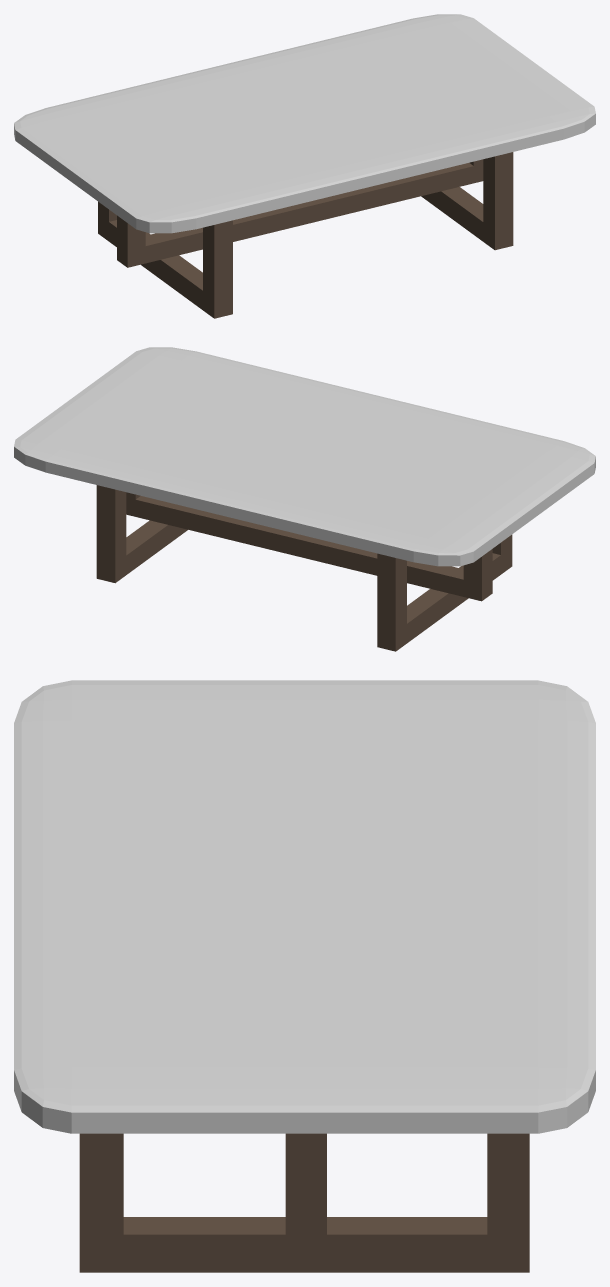
The model's file is cafe-table .fbx.
3 renders of one model, top to bottom at view 1: azimuth 30°, elevation 25°; view 2: azimuth 150°, elevation 25°; view 3: azimuth 270°, elevation 25°, orthographic. The views are drawn at different scales.
Parts seen in each view (by area): view 1: Cube.001; view 2: Cube.001; view 3: Cube.001.
Part boxes in pixels (bbox=[...]): Cube.001: bbox=[14, 14, 595, 318]; Cube.001: bbox=[14, 347, 595, 651]; Cube.001: bbox=[14, 680, 595, 1272].
Bounding box in the file's own units: 443 × 113 × 252.
